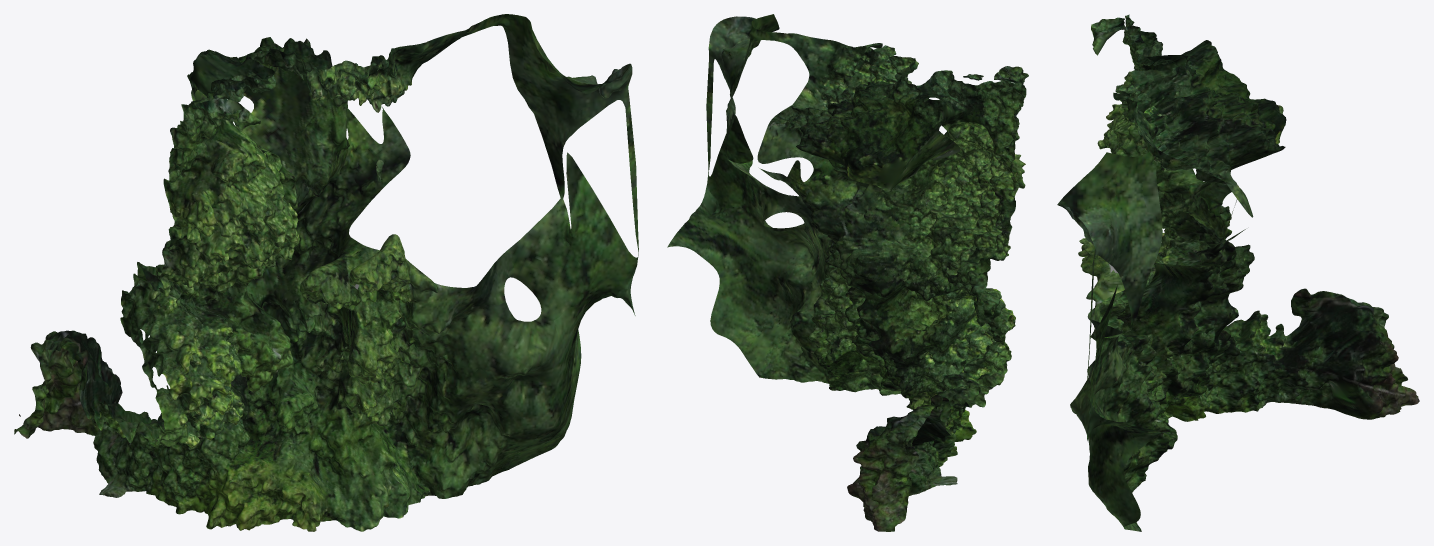
Rendered from Tile_+024_+013.fbx.
The picture shows the model from 3 angles, left to right: view 1: azimuth 30°, elevation 25°; view 2: azimuth 150°, elevation 25°; view 3: azimuth 270°, elevation 25°; orthographic projection. The views are drawn at different scales.
Visible parts, largest first — view 1: DefaultName; view 2: DefaultName; view 3: DefaultName.
Boxes of the visible parts, box(x1,y1,x2,y2) form: DefaultName: box(14, 14, 638, 531); DefaultName: box(667, 14, 1028, 531); DefaultName: box(1057, 14, 1419, 531).
Size of the model in its own units: 22.54 by 22.54 by 19.45.
